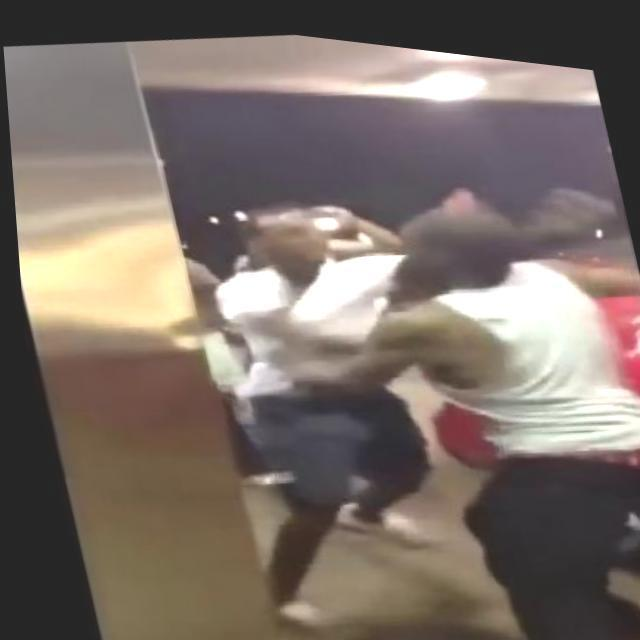fight: (178, 137, 640, 640)
